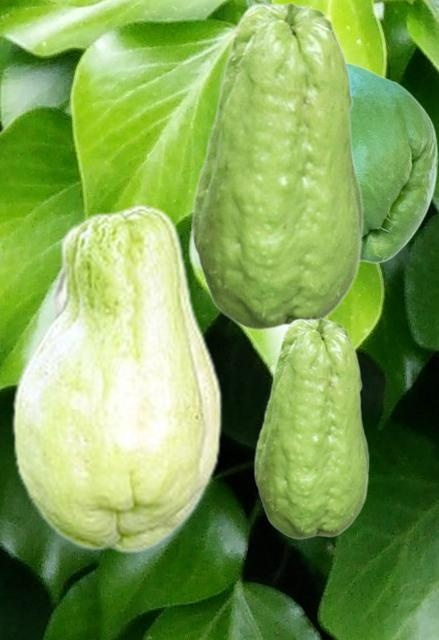sayote: (11, 203, 221, 553), (190, 1, 364, 331), (253, 317, 369, 539), (348, 62, 437, 263)
